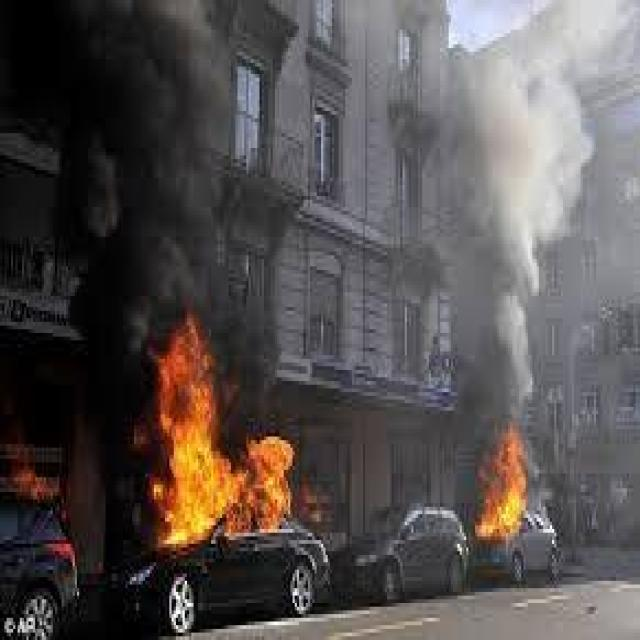fire: (124, 300, 326, 563), (472, 420, 528, 565)
smoke: (38, 9, 279, 290), (446, 45, 554, 405)
